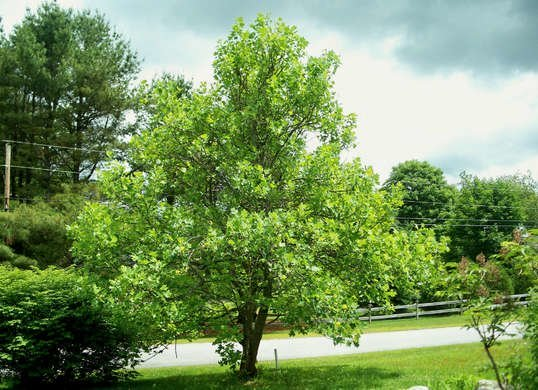tree: (63, 10, 452, 381)
